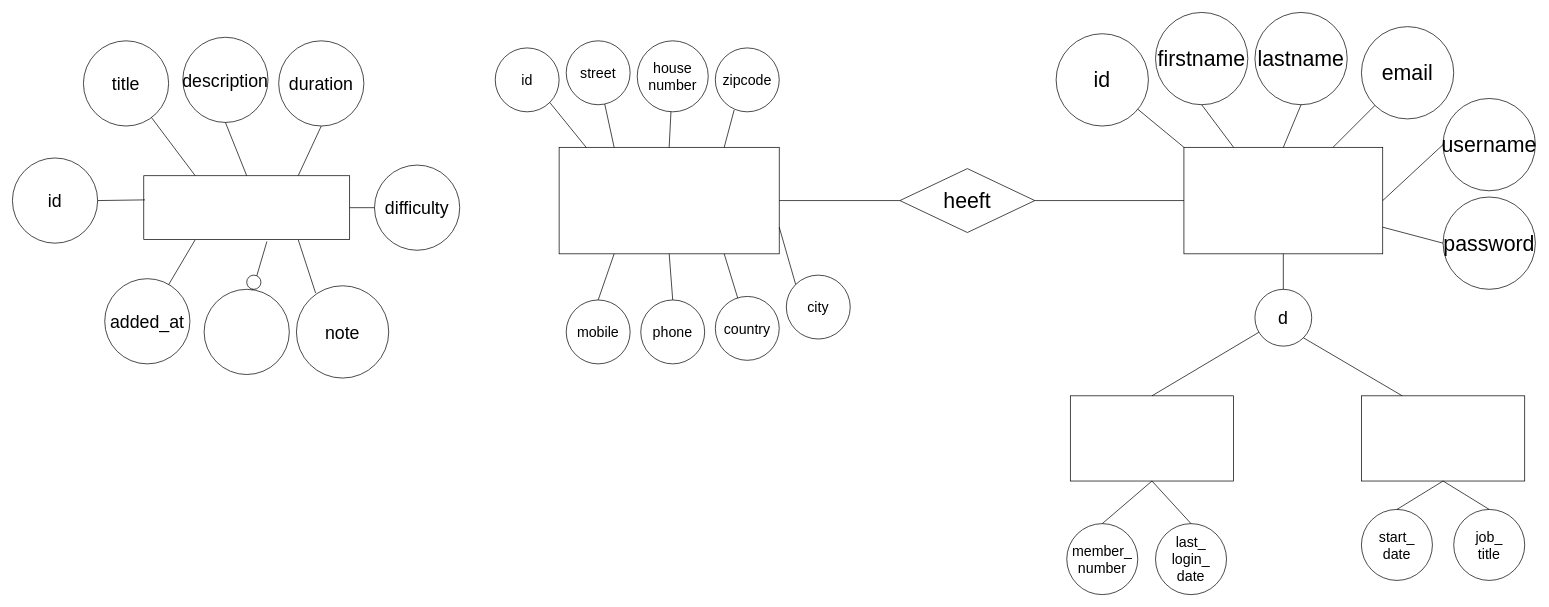
This 1549x607 diagram has some shape labels left out. The centre of each missing label's shape, as x and y in pixels:
"Adress" belongs at point (668, 200).
"Employee" belongs at point (1443, 438).
"image" belongs at point (246, 332).
"Member" belongs at point (1152, 438).
"user" belongs at point (1283, 200).
"WORKOUTS" belongs at point (246, 207).
